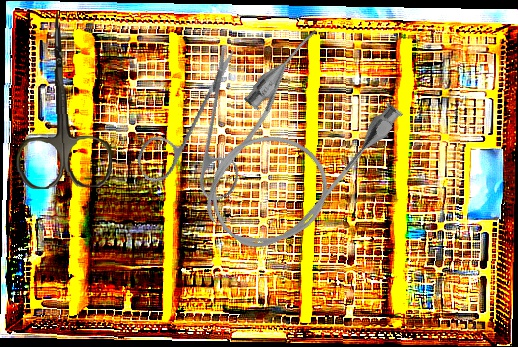Cannula: (172, 22, 411, 273)
Iris Scissors: (108, 44, 290, 225), (10, 10, 114, 190)
